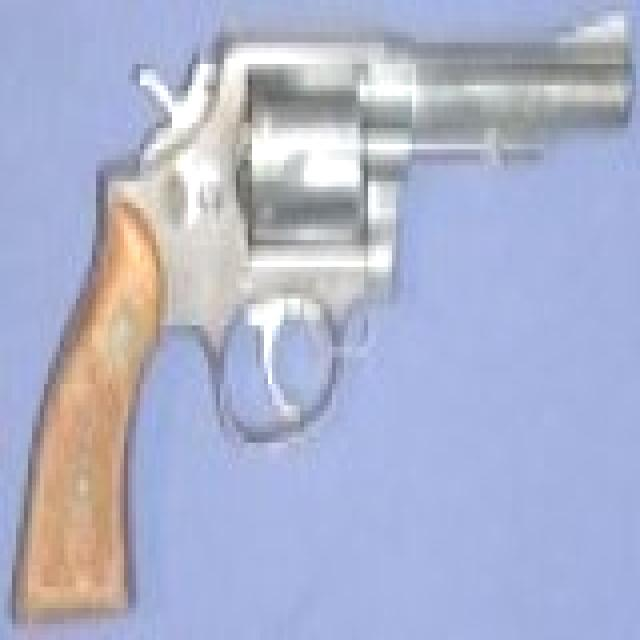pistol: (24, 0, 640, 608)
